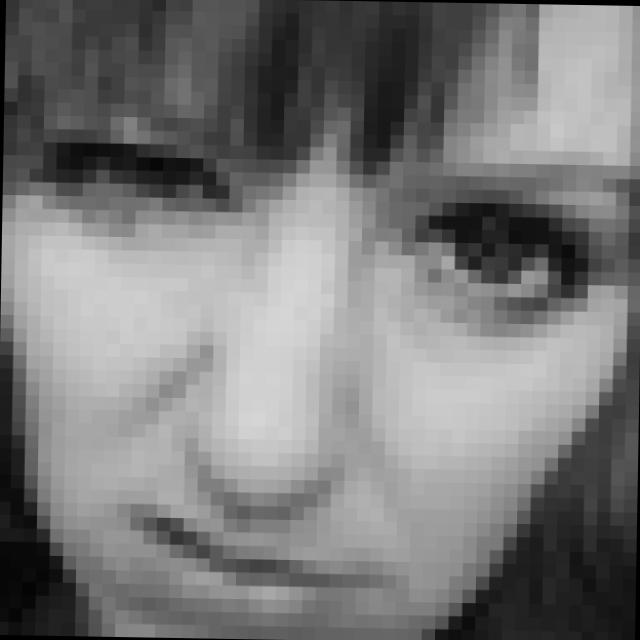disgust: (46, 105, 624, 640)
